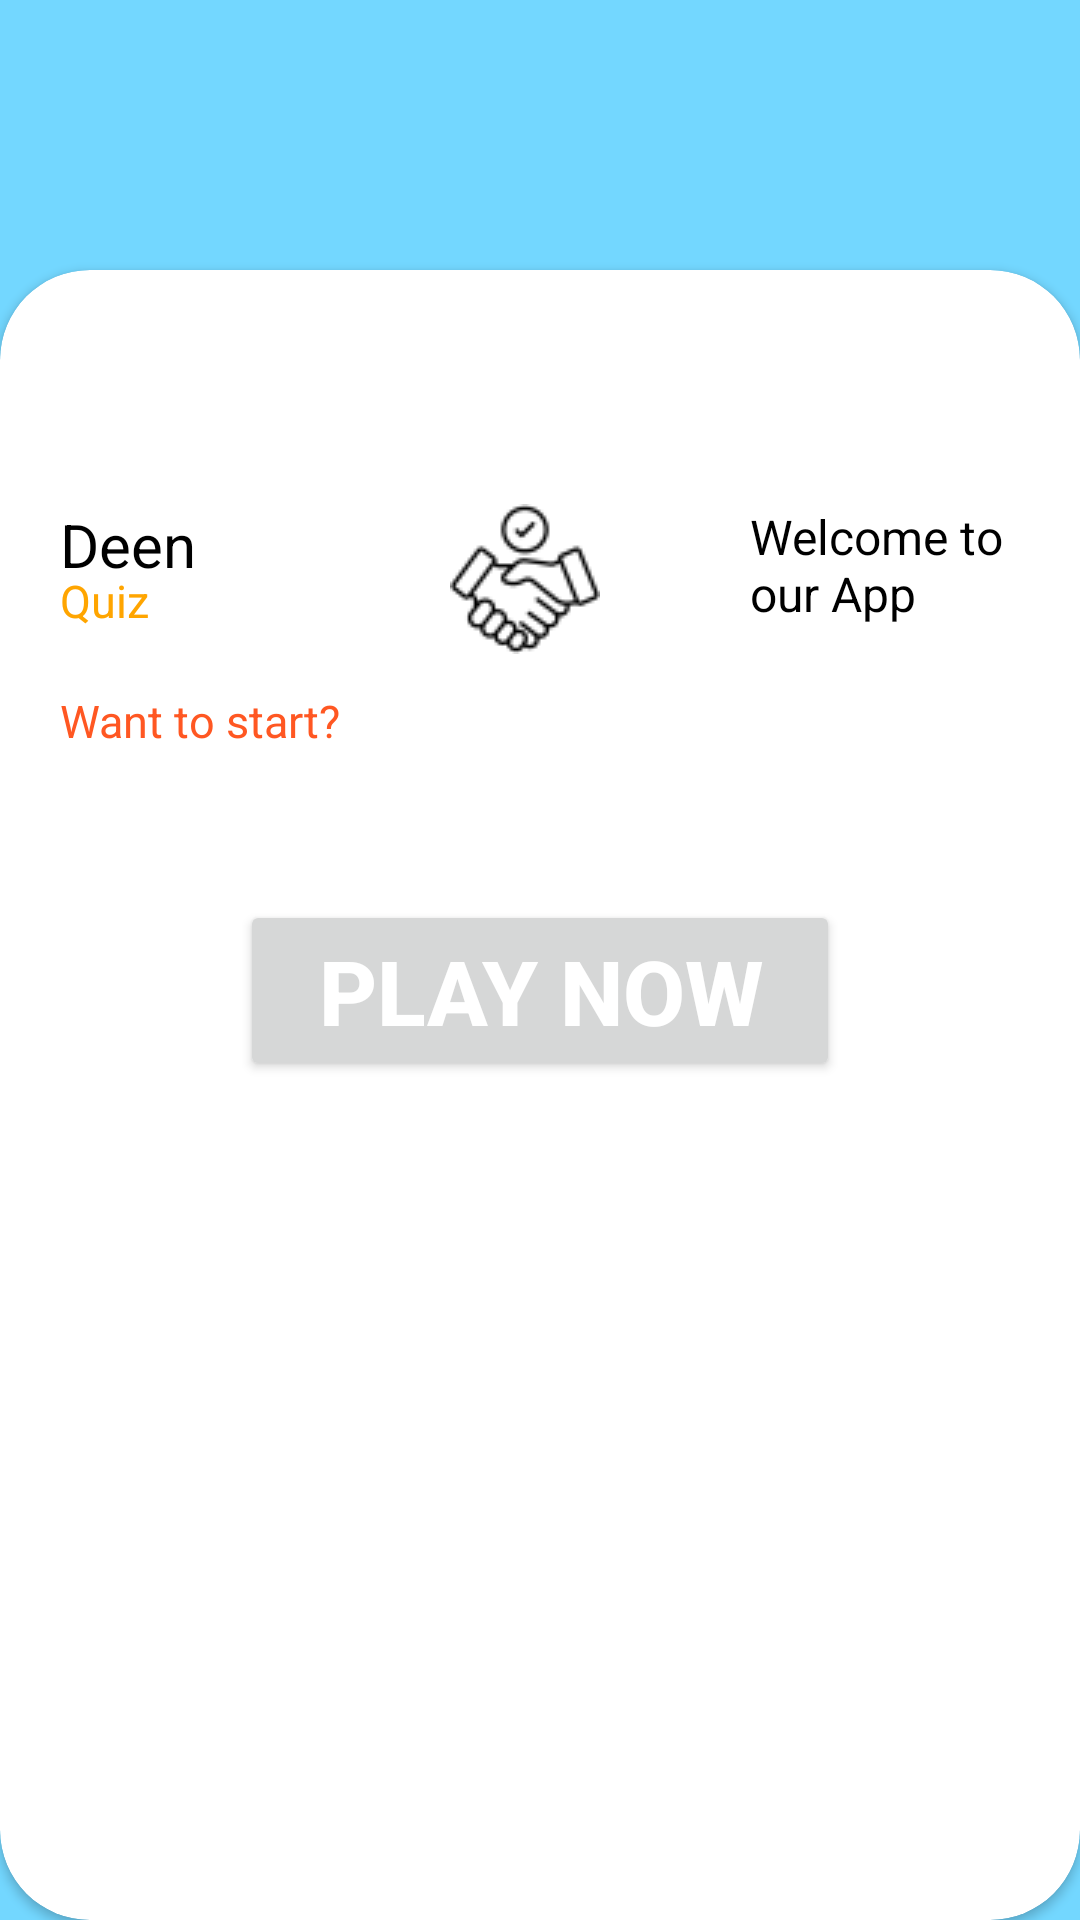

Where icons sit on this 1080 × 1920 app screen, as region(x1, y1, x2, y2):
deal: region(450, 504, 600, 654)
